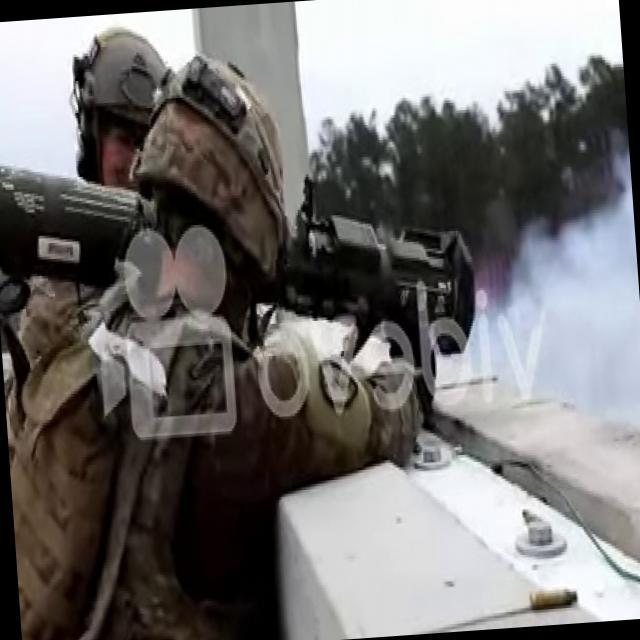rocket: (0, 132, 481, 394)
